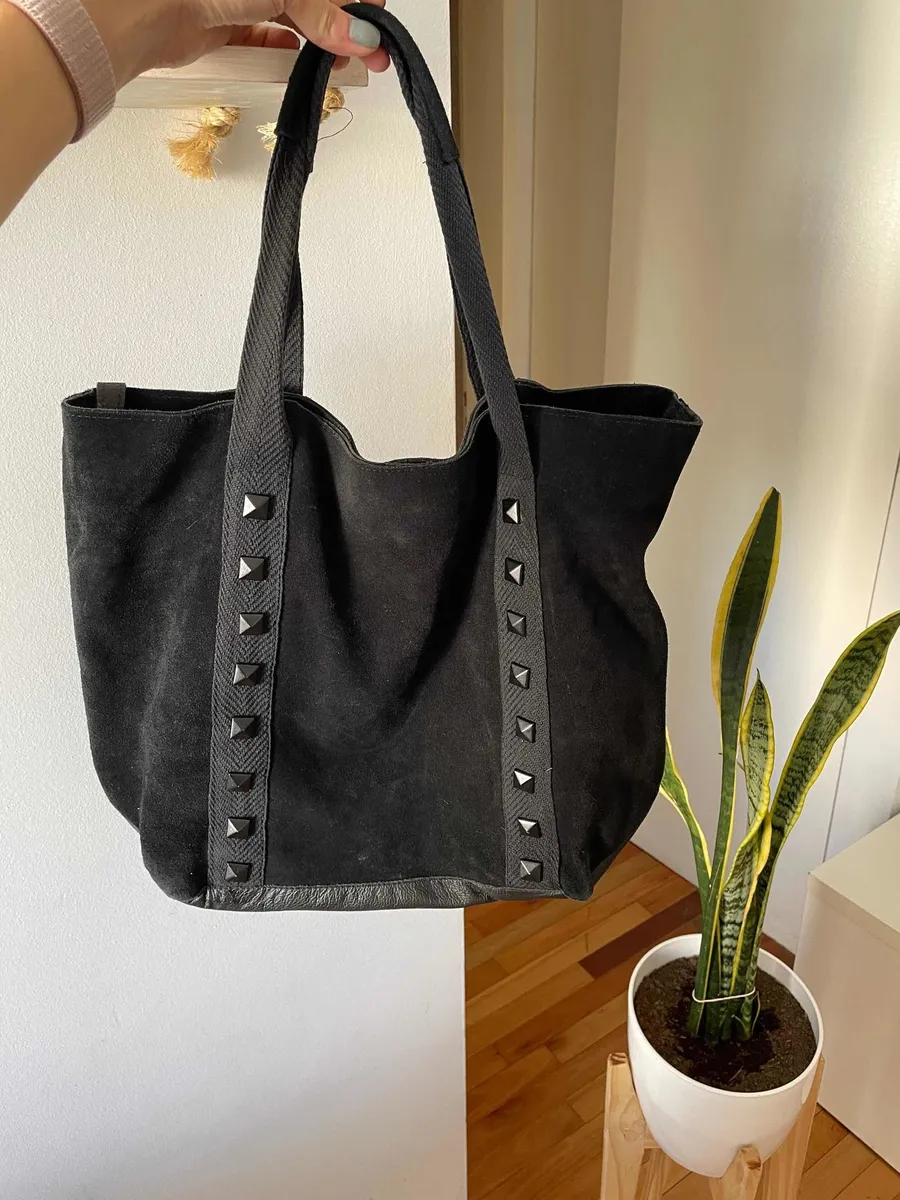cartera: (52, 383, 707, 907)
gamuza: (53, 385, 708, 912)
